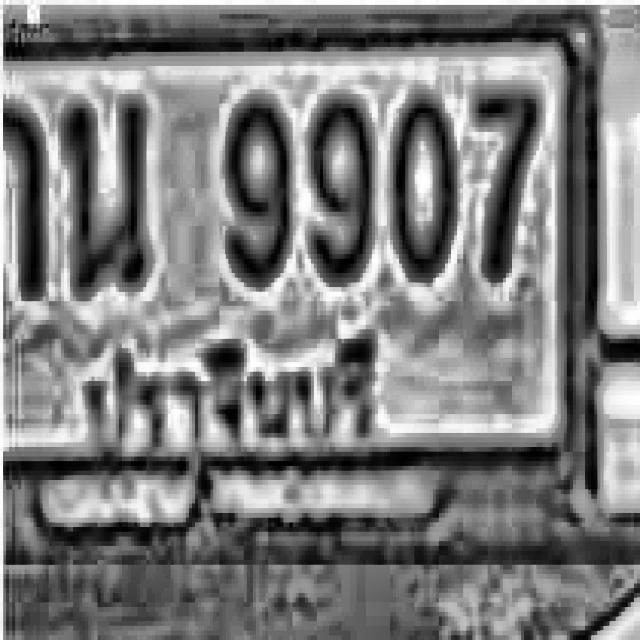license-plate: (0, 1, 605, 557)
